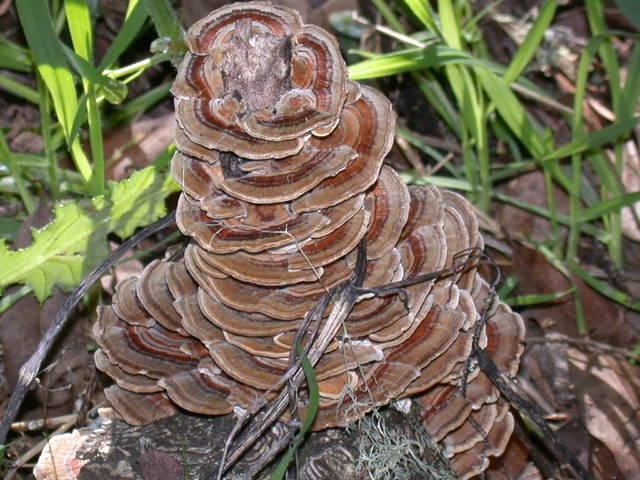Non-edible Mushroom: (30, 1, 528, 478)
